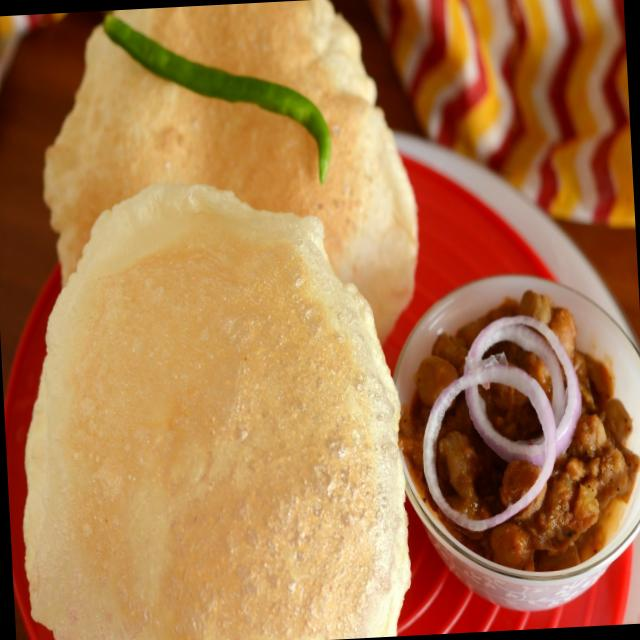Bhatura: (0, 1, 441, 640)
Chole: (402, 282, 640, 572)
